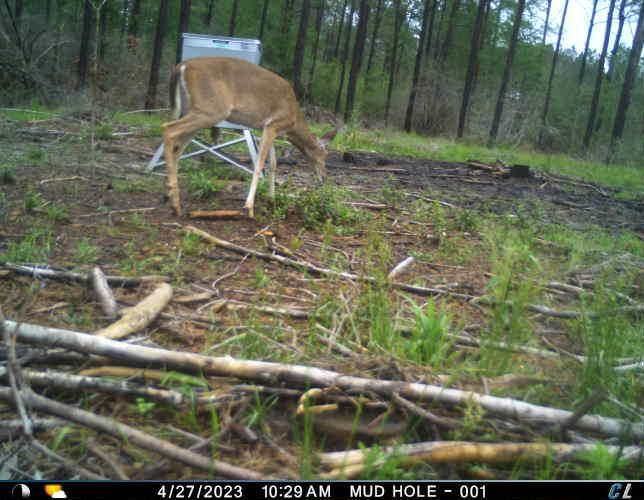Deer: (159, 53, 341, 222)
